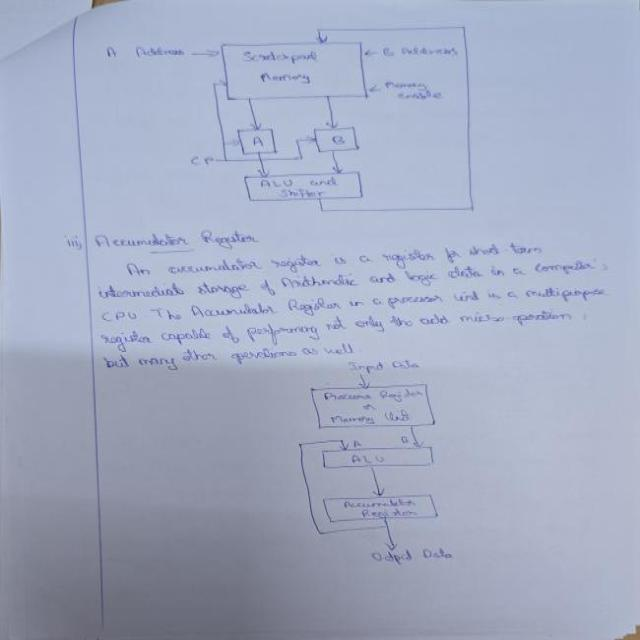Figure Detection - v3 Dataset Version2: (93, 14, 528, 218), (279, 352, 495, 582)
